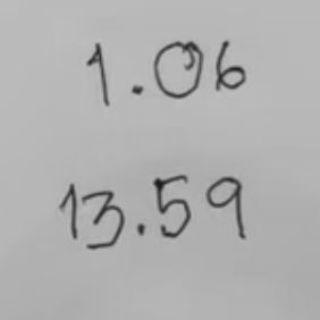.: (124, 77, 148, 99), (133, 221, 149, 240)
0: (152, 39, 205, 99)
1: (83, 41, 111, 108), (57, 182, 81, 241)
3: (80, 189, 126, 249)
5: (154, 173, 193, 240)
6: (213, 39, 247, 93)
9: (204, 175, 247, 243)
